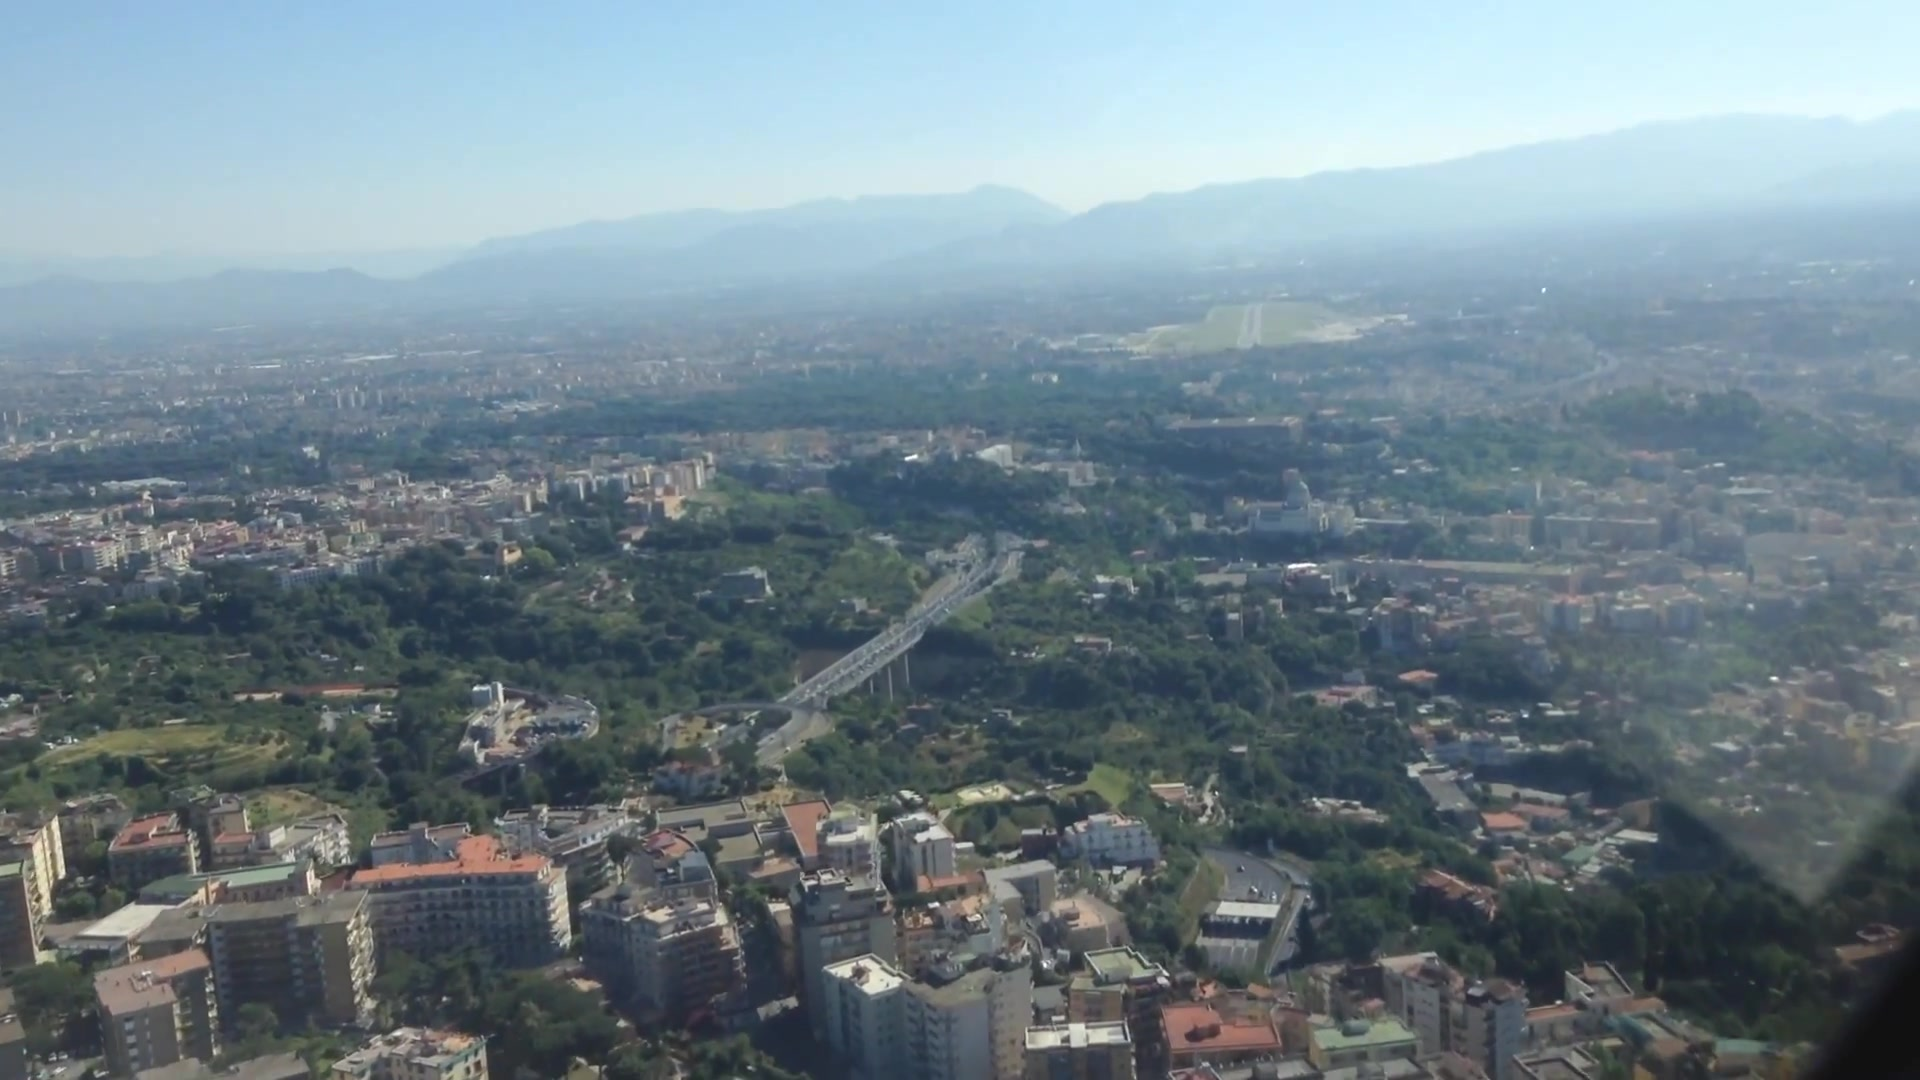runway: (1233, 301, 1265, 351)
